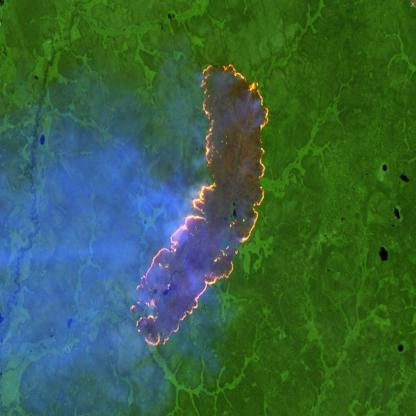fire: (129, 61, 271, 349)
